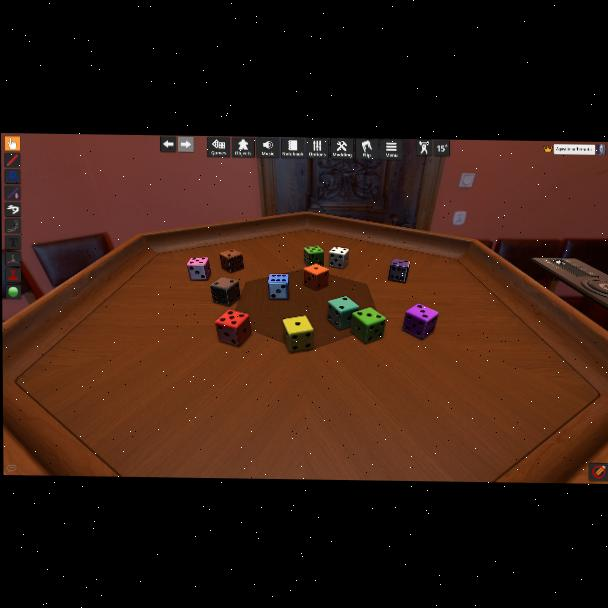d6: (350, 307, 389, 346), (214, 309, 251, 348), (402, 303, 436, 341), (281, 316, 312, 353), (328, 295, 357, 331), (210, 278, 240, 307), (219, 249, 243, 274), (303, 265, 325, 292), (187, 257, 211, 281), (388, 258, 410, 284), (268, 274, 289, 300), (329, 246, 349, 270), (303, 245, 322, 268)
